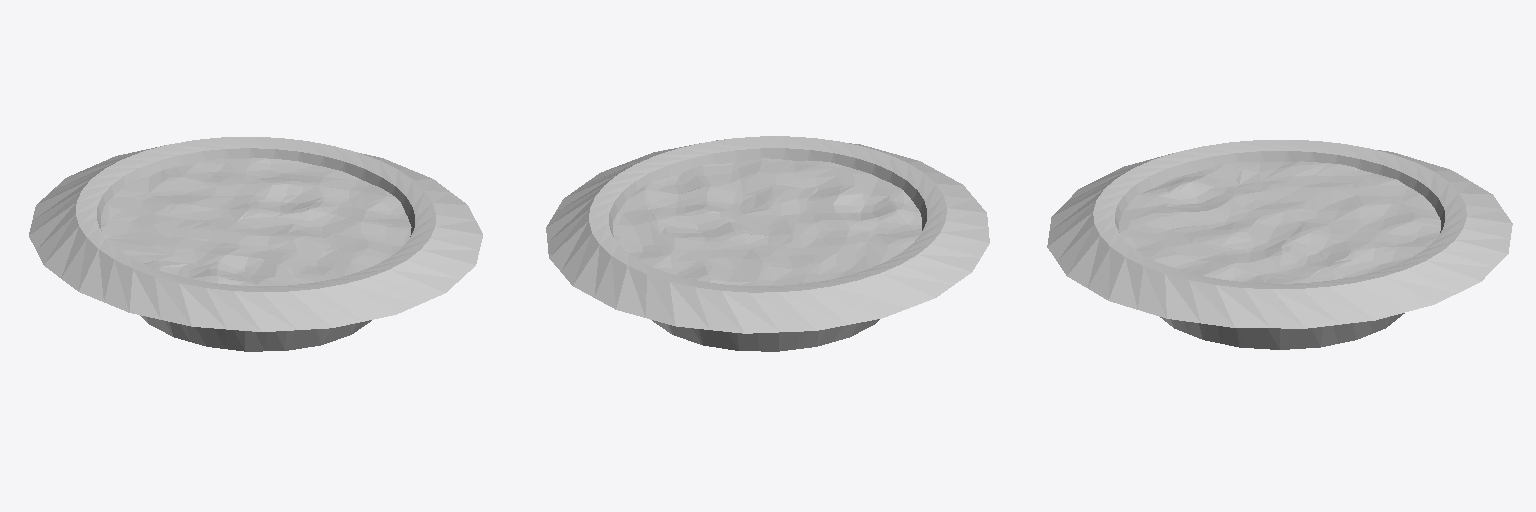
Rendered from pondalt.obj.
3 views of the same model, side by side, from view 1: azimuth 30°, elevation 25°; view 2: azimuth 150°, elevation 25°; view 3: azimuth 270°, elevation 25° (orthographic).
Parts seen in each view (by area): view 1: pondalt.002; view 2: pondalt.002; view 3: pondalt.002.
Boxes of the visible parts, <box> form: pondalt.002: <box>29,137,482,351</box>; pondalt.002: <box>546,136,989,351</box>; pondalt.002: <box>1047,140,1512,349</box>.
Size of the model in its own units: 4.03 by 0.8372 by 4.25.